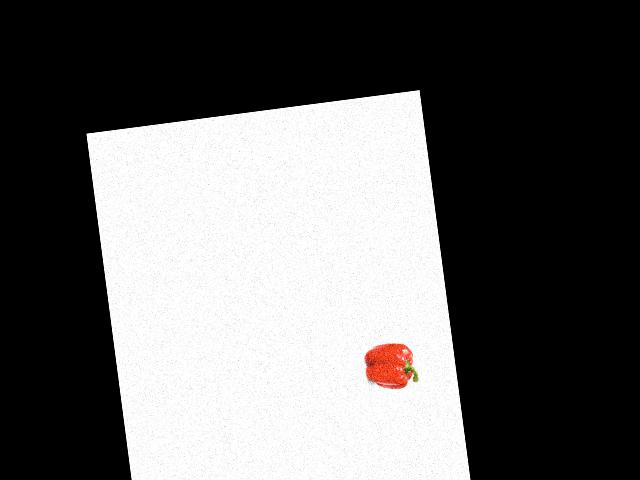bell_pepper: (361, 339, 420, 393)
